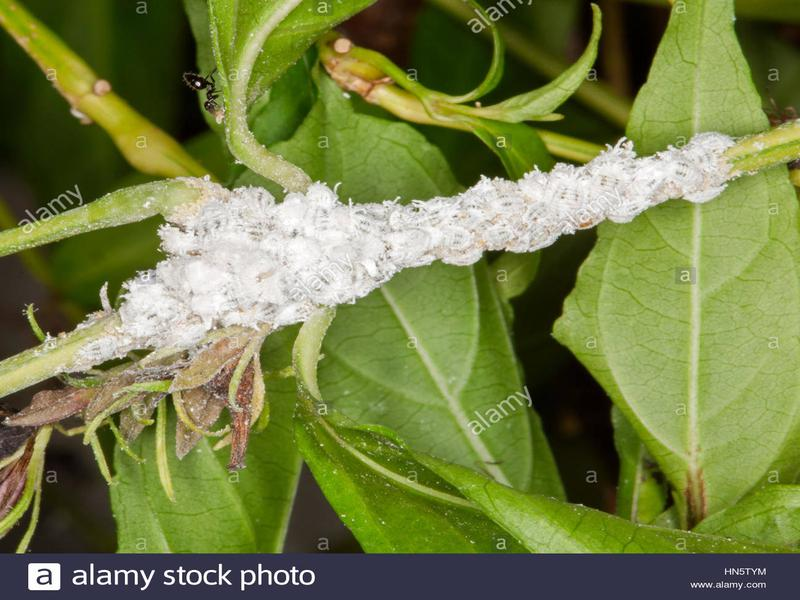Mealy_bug: (135, 124, 749, 353)
